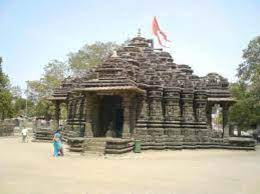Temple: (34, 26, 239, 149)
